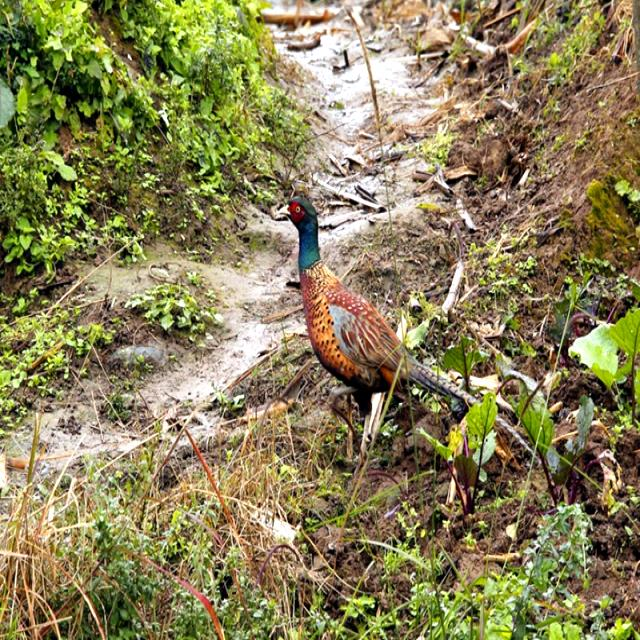Phasianus Colchicus: (411, 359, 545, 471)
